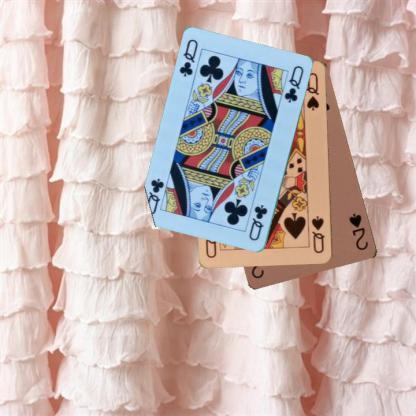2s: (347, 211, 370, 252)
Qc: (177, 37, 199, 79), (247, 203, 269, 243)
Qs: (309, 214, 326, 255)
